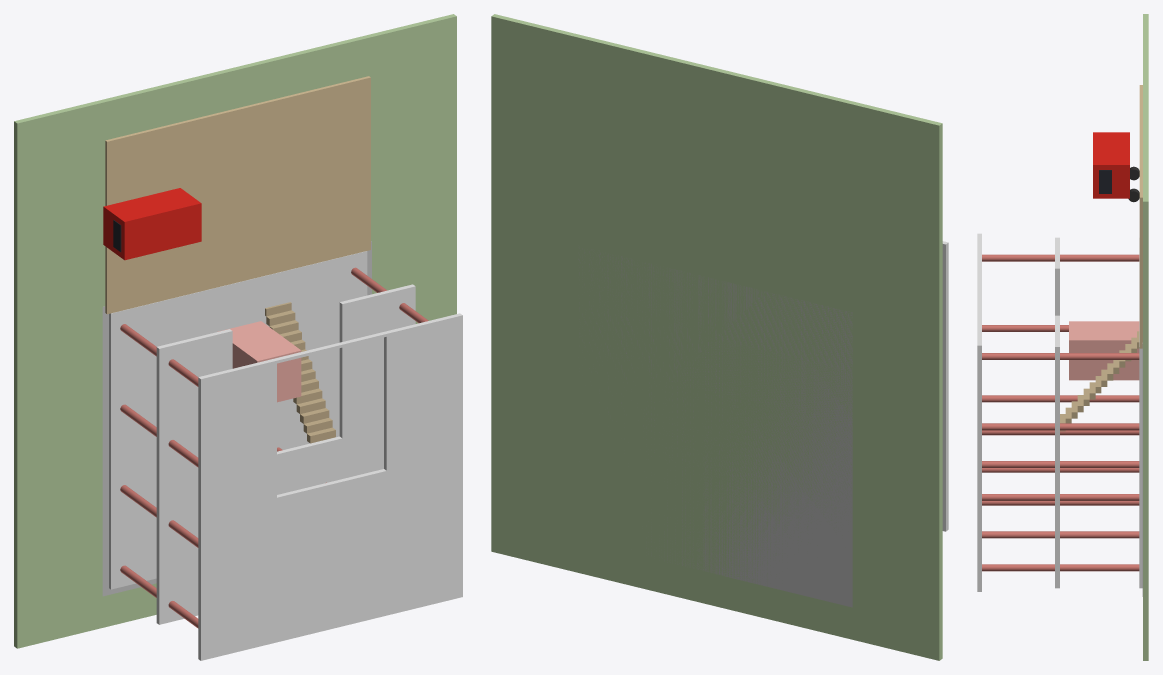
The model's file is frame.glb.
3 renders of one model, left to right at view 1: azimuth 30°, elevation 25°; view 2: azimuth 150°, elevation 25°; view 3: azimuth 270°, elevation 25°, orthographic. The views are drawn at different scales.
Parts seen in each view (by area): view 1: 敷地(芝生), 屋根(コの字), テラスデッキ, 1F 床, 2F 床(コの字), キッチンカー_車体, 大ぬいぐるみ, 階段, 基礎, 柱_1, 柱_3, 柱_2 (+1 smaller); view 2: 敷地(芝生), 基礎, 屋根(コの字); view 3: 敷地(芝生), 大ぬいぐるみ, キッチンカー_車体, 屋根(コの字), 2F 床(コの字), 階段, 柱_11, 柱_4, 柱_7, 柱_9, 柱_2, 1F 床 (+9 smaller).
Part boxes in pixels (x1,y1,x2,y2): 敷地(芝生): (14, 14, 456, 648); 屋根(コの字): (198, 313, 462, 660); テラスデッキ: (105, 76, 370, 314); 1F 床: (109, 251, 367, 589); 2F 床(コの字): (156, 284, 415, 624); キッチンカー_車体: (103, 188, 201, 260); 大ぬいぐるみ: (217, 321, 301, 402); 階段: (265, 302, 335, 443); 基礎: (102, 241, 371, 596); 柱_1: (120, 565, 198, 628); 柱_3: (120, 404, 198, 467); 柱_2: (120, 485, 198, 547); 敷地(芝生): (491, 14, 942, 660); 基礎: (578, 248, 852, 607); 屋根(コの字): (942, 241, 948, 531); 敷地(芝生): (1143, 14, 1148, 660); 大ぬいぐるみ: (1069, 321, 1139, 380); キッチンカー_車体: (1093, 132, 1129, 198); 屋根(コの字): (977, 233, 981, 591); 2F 床(コの字): (1055, 237, 1059, 588); 階段: (1060, 331, 1139, 431); 柱_11: (982, 423, 1139, 430); 柱_4: (982, 254, 1139, 261); 柱_7: (982, 531, 1139, 538); 柱_9: (982, 564, 1139, 571); 柱_2: (982, 395, 1139, 402); 1F 床: (1139, 238, 1142, 588).
Size of the model in its own units: 24000 by 27400 by 9260.
